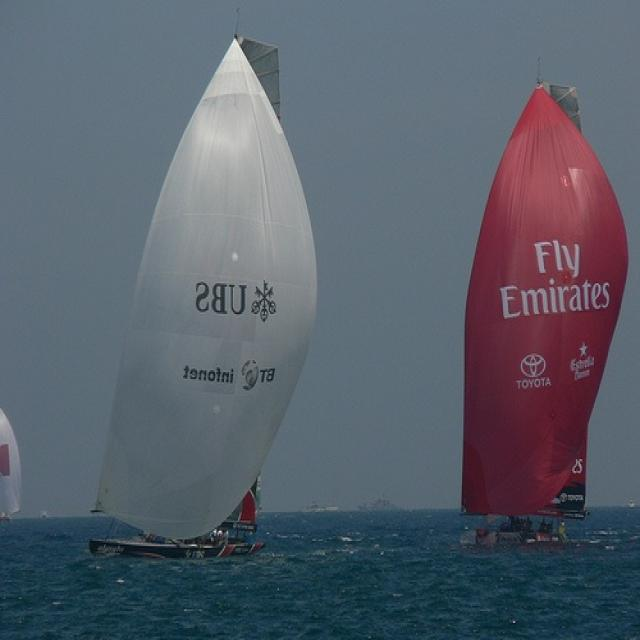boat: (85, 36, 318, 565), (457, 82, 630, 553)
